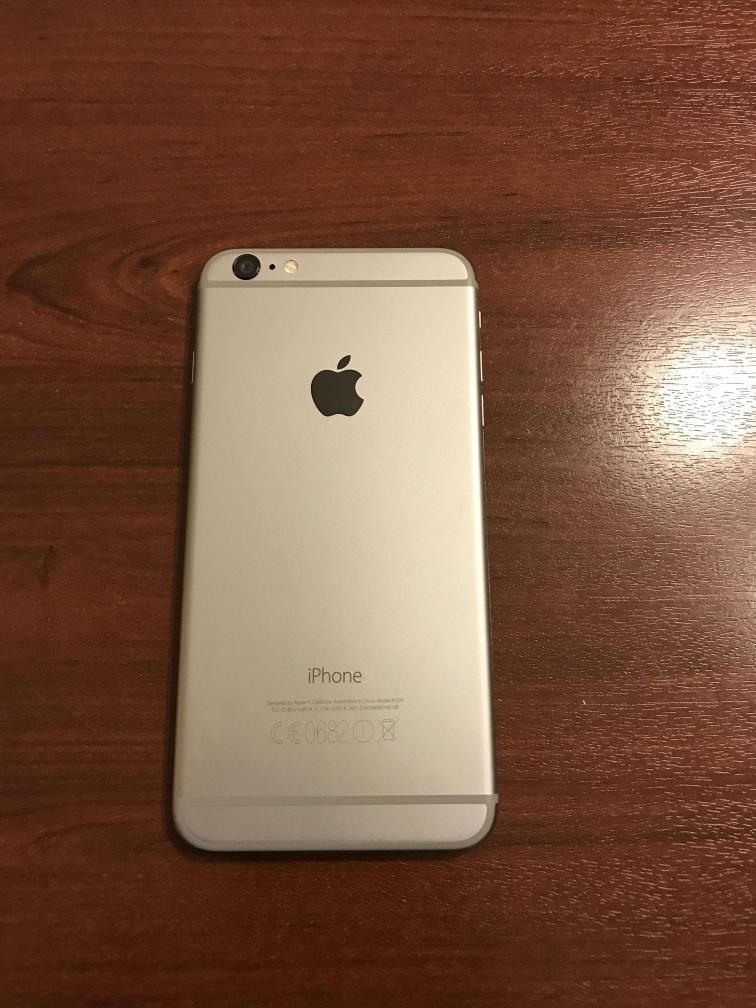apple: (310, 337, 378, 443)
